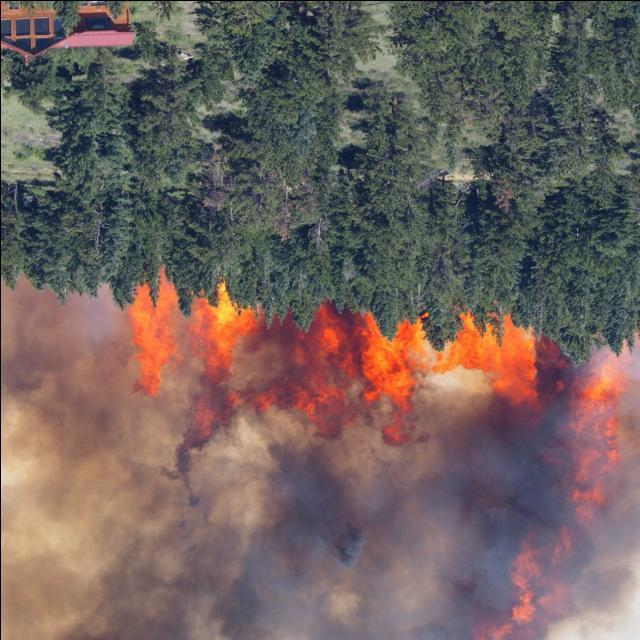Fire: (70, 284, 622, 590)
